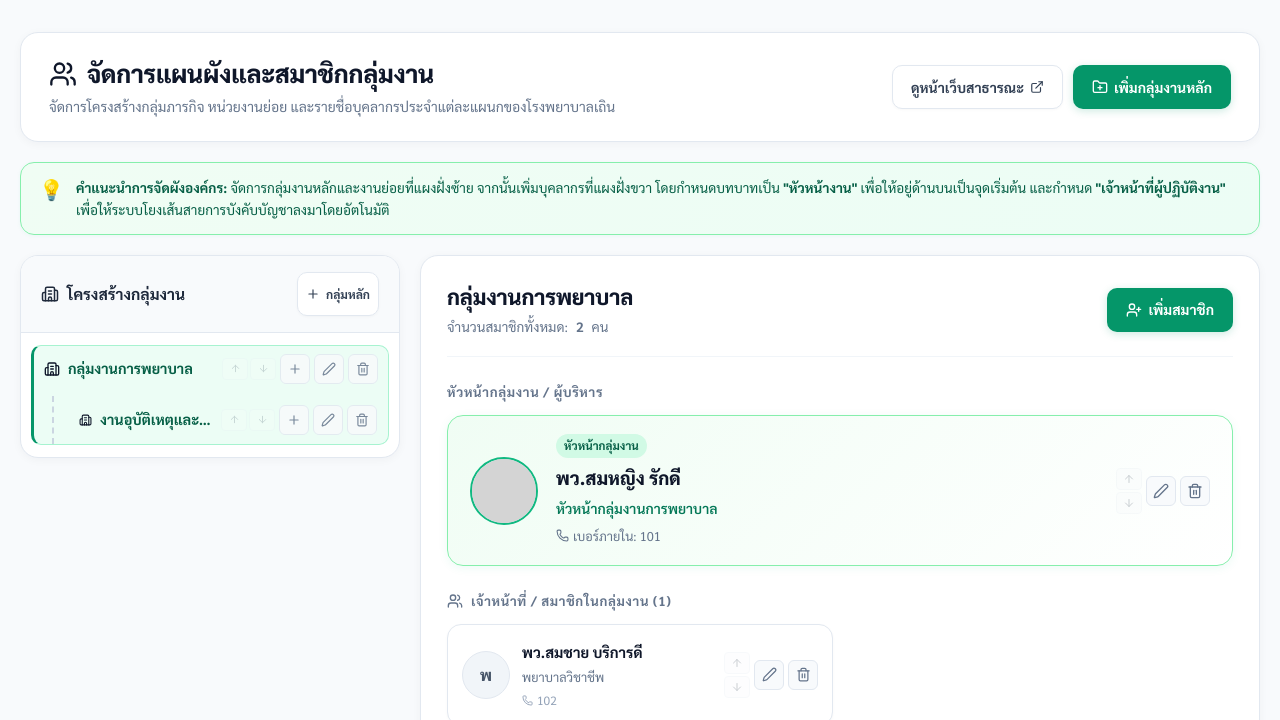
Test: OrganizationAdminClient Component › opens add member modal when clicking เพิ่มสมาชิก button
The width and height of the screenshot is (1280, 720).
Check: the text "พว.สมหญิง รักดี" is shown, box [556,465,681,489]
Click the button "เพิ่มสมาชิก".
click(1170, 310)  # box [1107,288,1233,332]
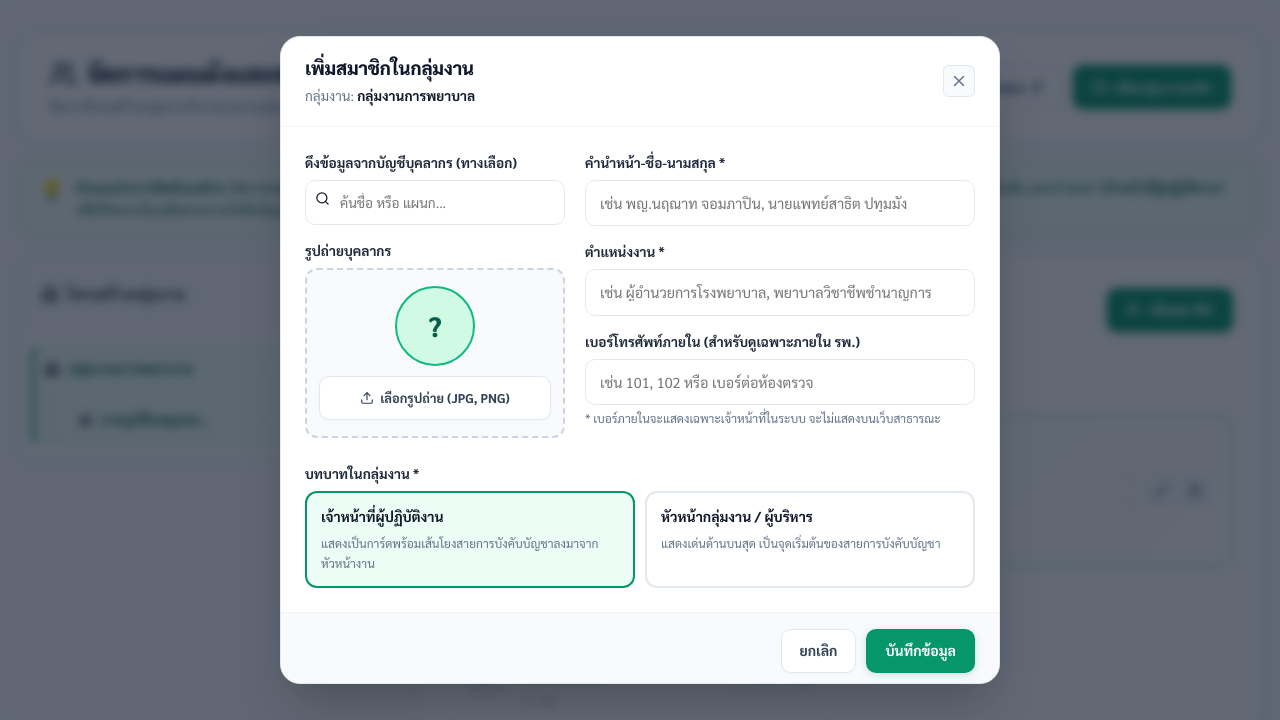
Check: the heading "เพิ่มสมาชิกในกลุ่มงาน" is shown, box [305,55,475,80]
Check: the field with placeholder "เช่น ผู้อำนวยการโรงพยาบาล, พยาบาลวิชาชีพชำนาญการ" is shown, box [585,269,975,316]
